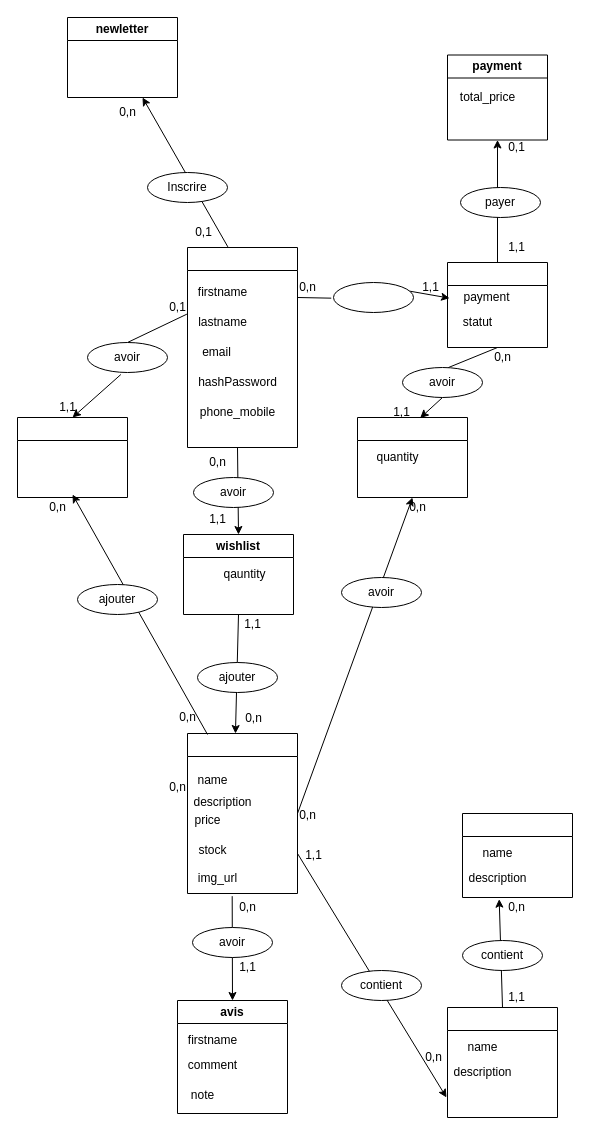
The diagram is 590 pixels wide and 1135 high, and some of its shapes have lost their labels. Each missing label, with the box of its shape:
cart: (16, 416, 128, 498)
category: (462, 812, 572, 898)
commad: (446, 262, 548, 348)
detail_order: (356, 416, 468, 498)
passer: (332, 282, 414, 312)
product: (186, 732, 298, 894)
sous-category: (446, 1006, 558, 1118)
user: (186, 246, 298, 448)
